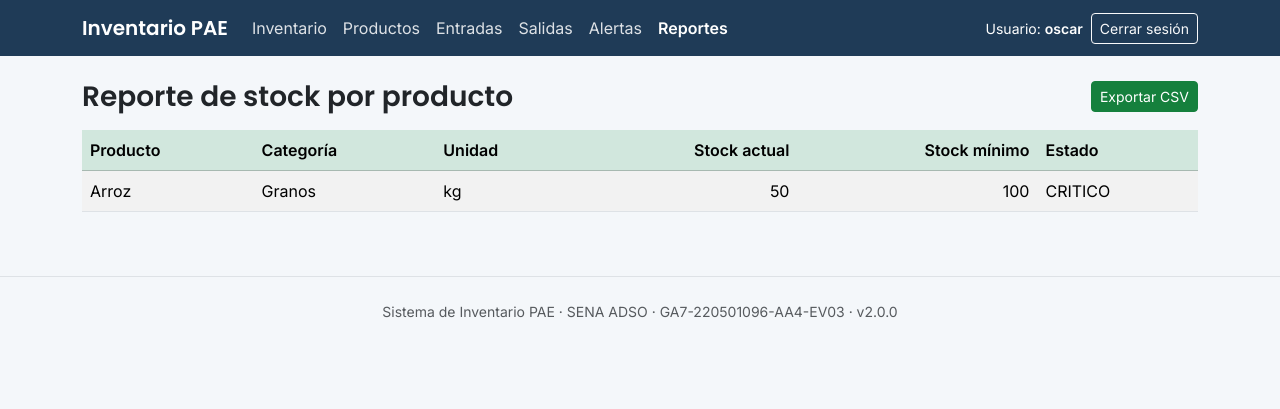
Test case: Sistema de Inventario PAE (front-end) › HU-09 y HU-10: muestra el reporte de stock y exporta el CSV
Expected: the text "CRITICO" is shown, [1037,170,1198,211]
Click the button "Exportar CSV" at (1144, 97), box [1091,81,1198,112]
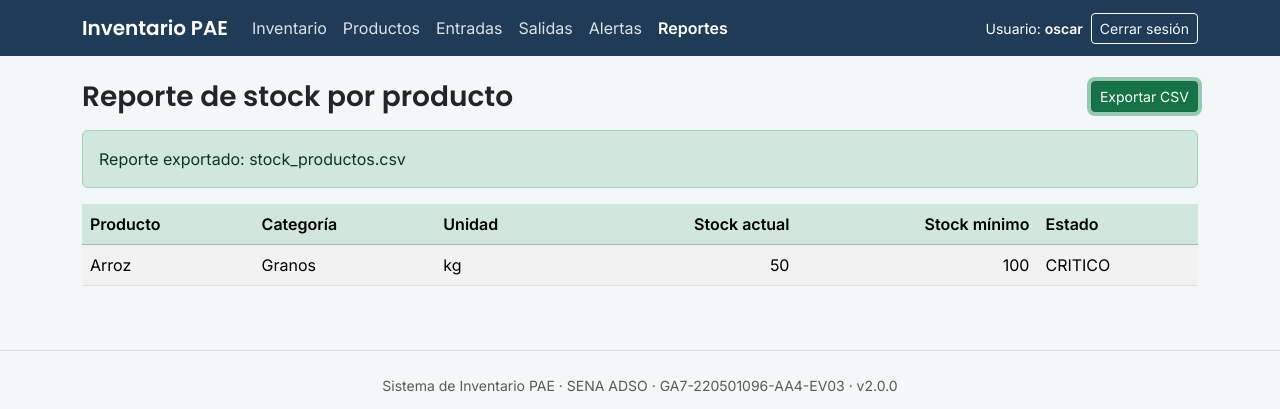
Now the text "Reporte exportado: stock_productos.csv" is shown, box [82,130,1198,188]
